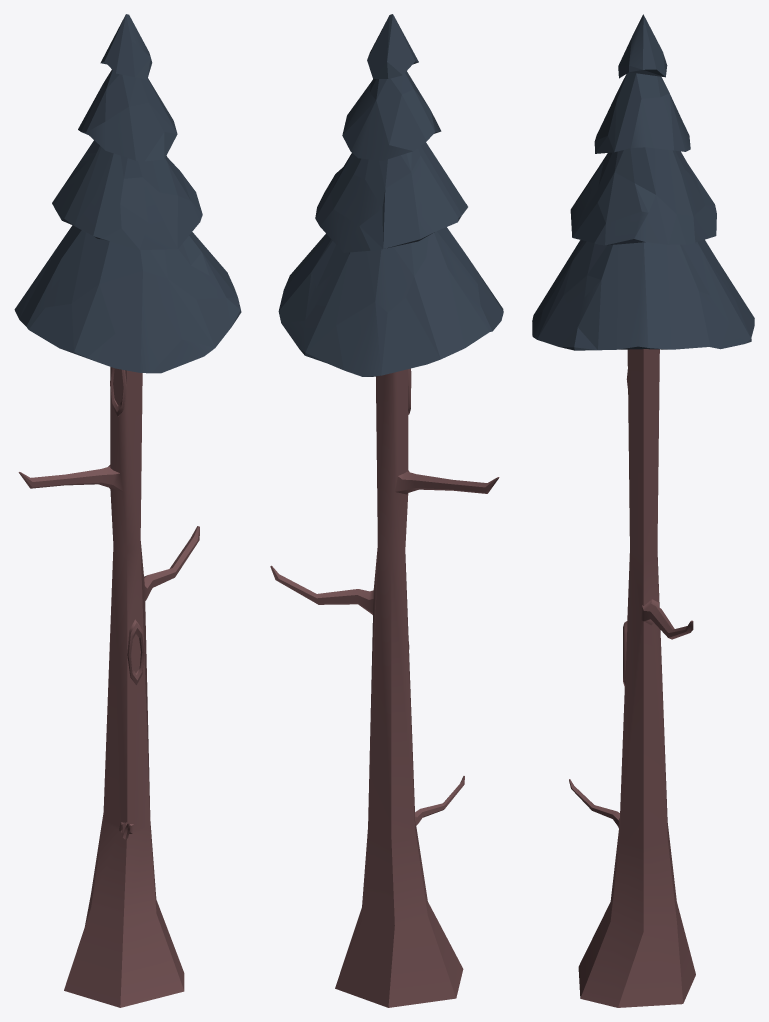
The model's file is arvoregrande.fbx.
3 views of the same model, side by side, from view 1: azimuth 30°, elevation 25°; view 2: azimuth 150°, elevation 25°; view 3: azimuth 270°, elevation 25° (orthographic).
Visible parts, largest first — view 1: arvore_gigante; view 2: arvore_gigante; view 3: arvore_gigante.
Boxes of the visible parts, box(x1,y1,x2,y2) form: arvore_gigante: box(14, 14, 241, 1007); arvore_gigante: box(270, 14, 503, 1007); arvore_gigante: box(532, 14, 754, 1007).
Size of the model in its own units: 67.07 by 299 by 62.1.
